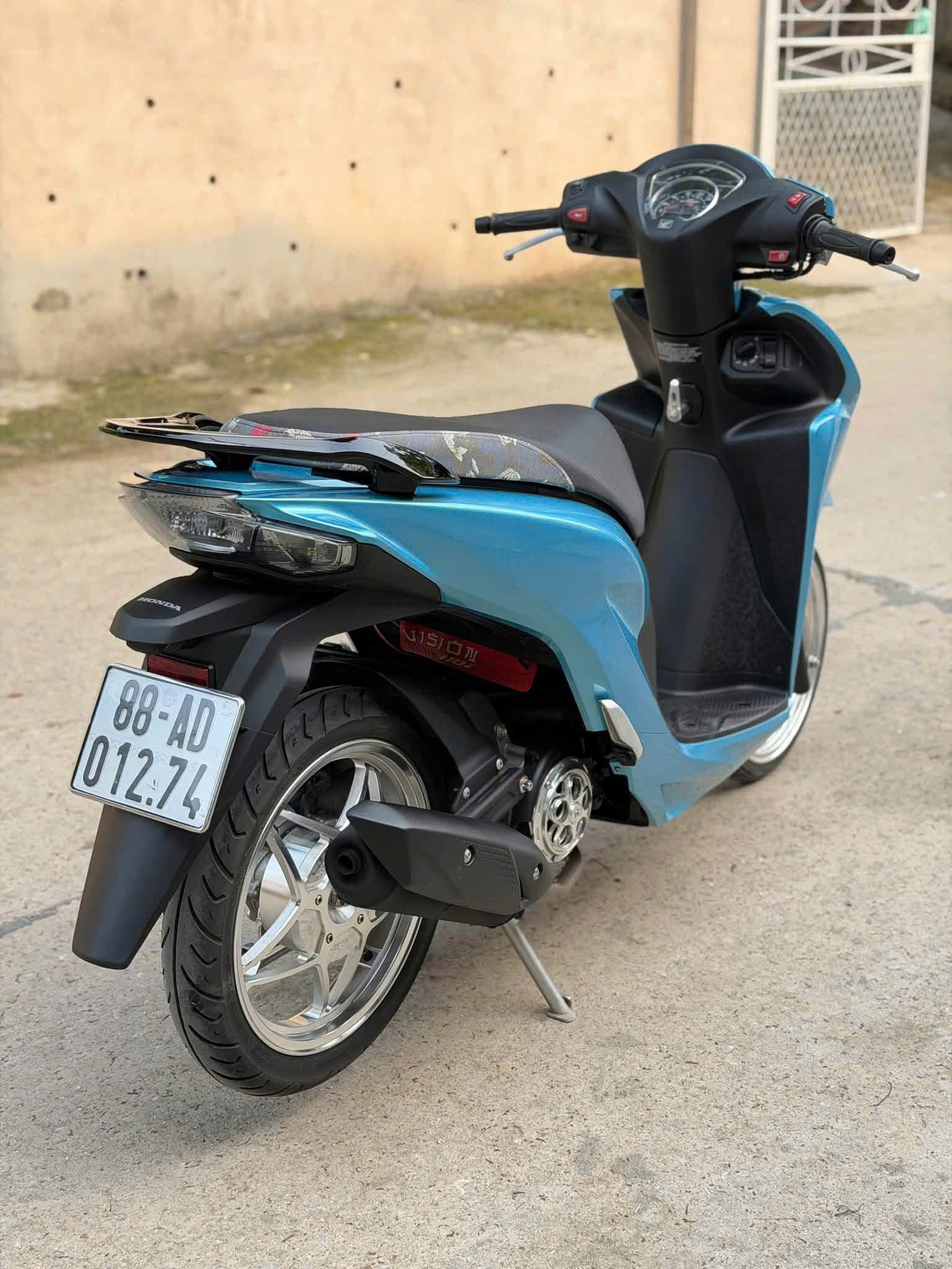Bien-so: (72, 663, 246, 828)
